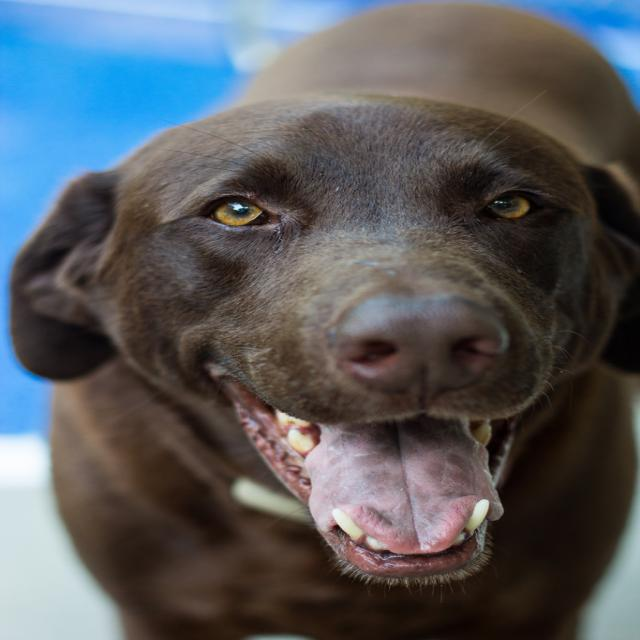Dog: (5, 0, 639, 639)
